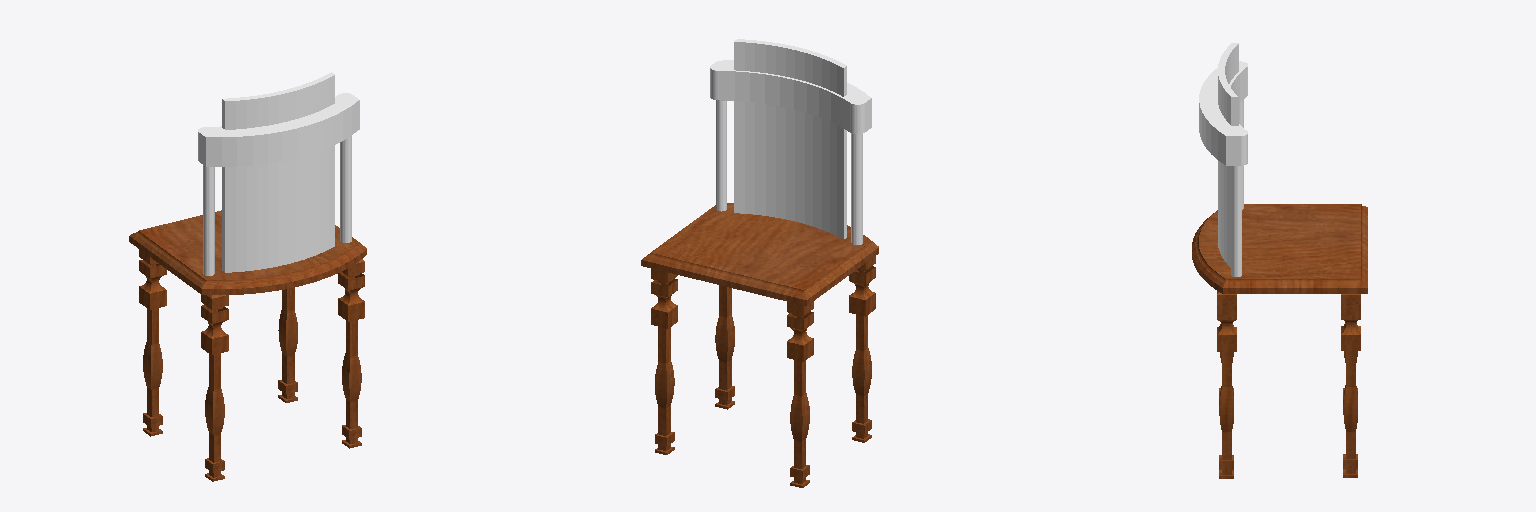
3 renders of one model, left to right at view 1: azimuth 30°, elevation 25°; view 2: azimuth 150°, elevation 25°; view 3: azimuth 270°, elevation 25°, orthographic.
Visible parts, largest first — view 1: SketchUp_ID119, group_0_ID3, SketchUp_ID106, leg_ID34, leg_ID58, _1_ID85, _1_ID98, leg_ID26, leg_ID50; view 2: SketchUp_ID119, group_0_ID3, leg_ID34, SketchUp_ID106, leg_ID58, _1_ID85, _1_ID98, leg_ID26, leg_ID50; view 3: group_0_ID3, SketchUp_ID106, SketchUp_ID119, leg_ID34, leg_ID58, _1_ID98.
Part boxes in pixels (x1,y1,x2,y2): SketchUp_ID119: (222, 72, 334, 272); group_0_ID3: (129, 210, 366, 294); SketchUp_ID106: (198, 93, 359, 166); leg_ID34: (143, 287, 361, 462); leg_ID58: (139, 260, 364, 355); _1_ID85: (203, 165, 214, 275); _1_ID98: (340, 136, 351, 242); leg_ID26: (143, 380, 361, 472); leg_ID50: (139, 249, 364, 309); SketchUp_ID119: (734, 39, 846, 239); group_0_ID3: (641, 203, 878, 305); leg_ID34: (655, 285, 871, 468); SketchUp_ID106: (710, 60, 871, 133); leg_ID58: (651, 266, 875, 361); _1_ID85: (851, 133, 862, 244); _1_ID98: (716, 100, 726, 211); leg_ID26: (655, 386, 871, 479); leg_ID50: (651, 256, 875, 315); group_0_ID3: (1192, 204, 1367, 293); SketchUp_ID106: (1199, 61, 1247, 165); SketchUp_ID119: (1218, 43, 1238, 267); leg_ID34: (1219, 322, 1357, 459); leg_ID58: (1217, 305, 1360, 351); _1_ID98: (1231, 166, 1241, 276).
Size of the model in its own units: 0.3936 by 0.8444 by 0.3635.
7 materials, 1 textured.